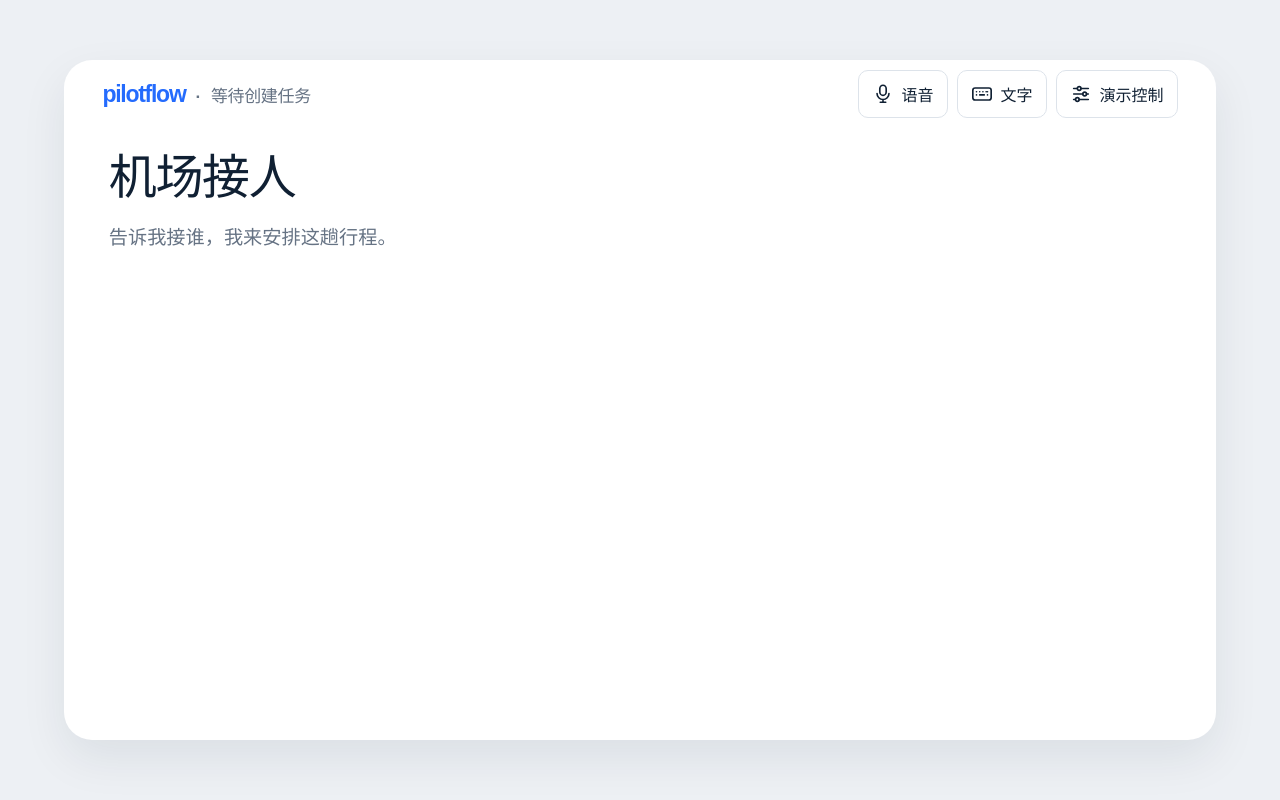
Test: demo integration › does not fabricate a task before the Agent API creates one
This screenshot has width=1280, height=800.
Expected: the text "等待创建任务" is shown, x1=211 y1=82 x2=311 y2=106
Expected: the text "告诉我接谁，我来安排这趟行程。" is shown, x1=109 y1=227 x2=397 y2=248
Click the button with aria-label "打开演示控制" at (1117, 94), box x1=1056 y1=70 x2=1178 y2=118
(page scrolled)
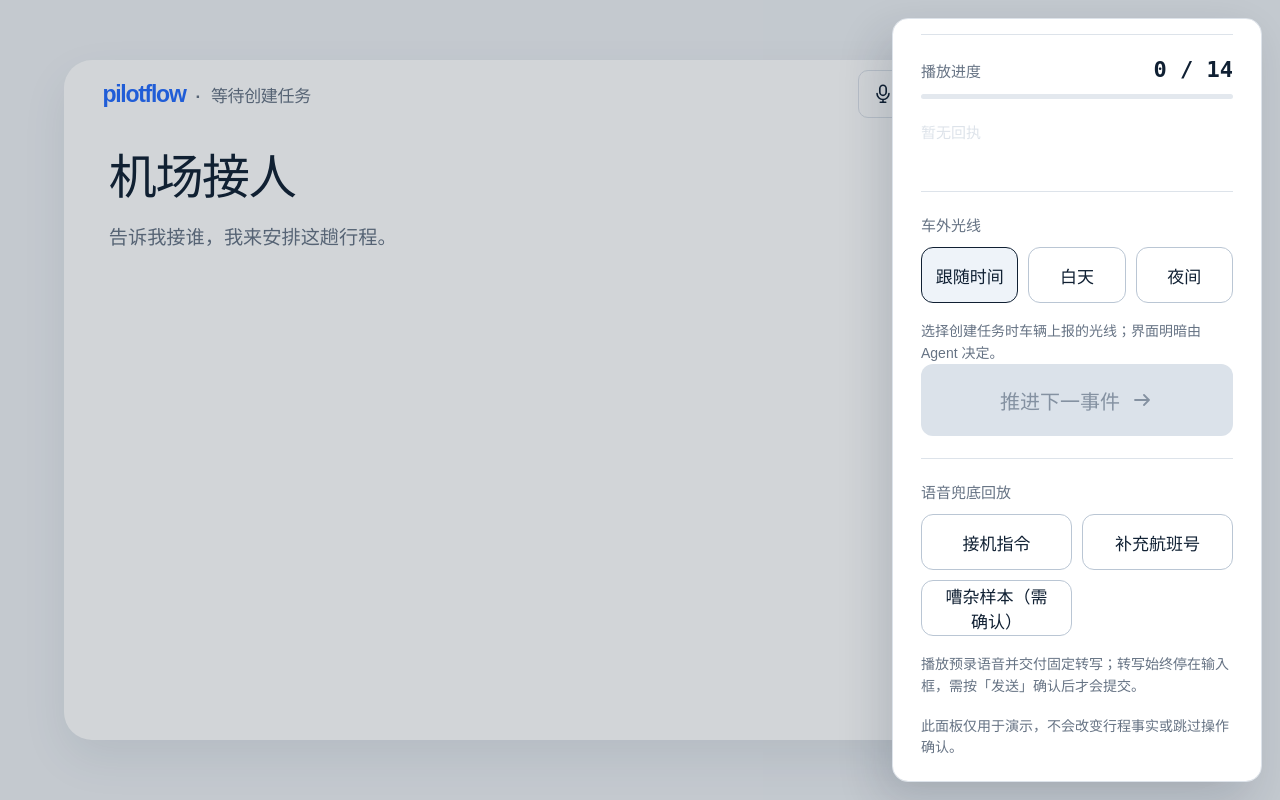
Result: the button "推进下一事件" is disabled at x1=921 y1=364 x2=1233 y2=436
